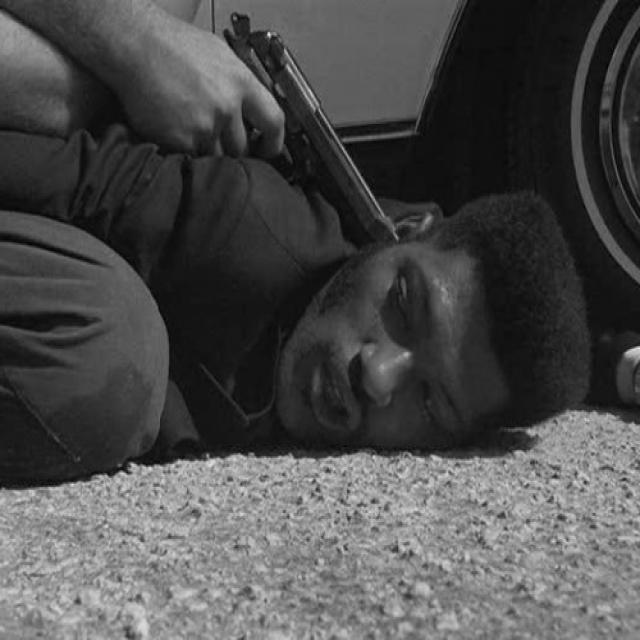weapons: (185, 6, 408, 267)
